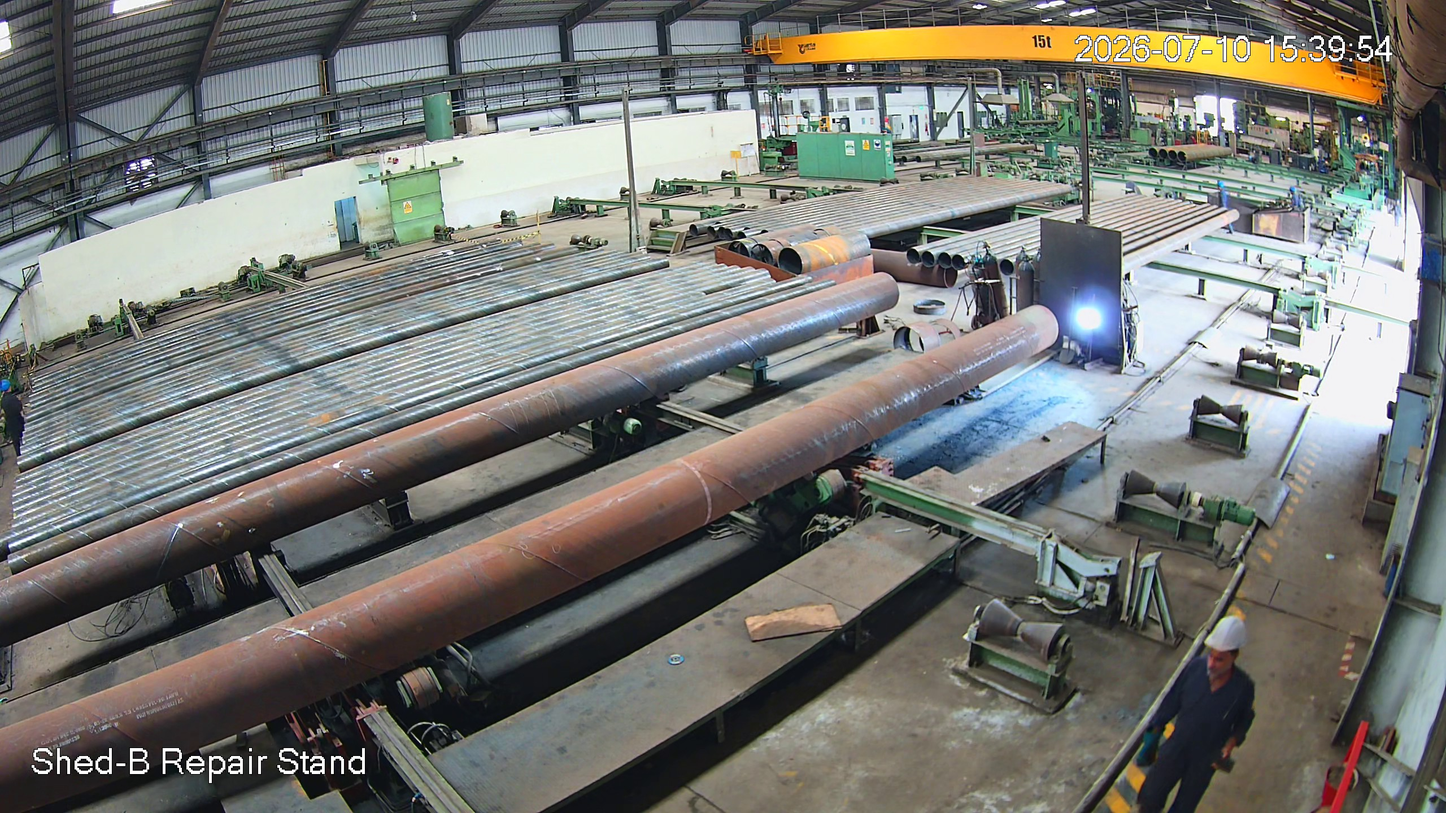Helmet: (1172, 604, 1253, 703)
Person: (1129, 612, 1281, 813)
